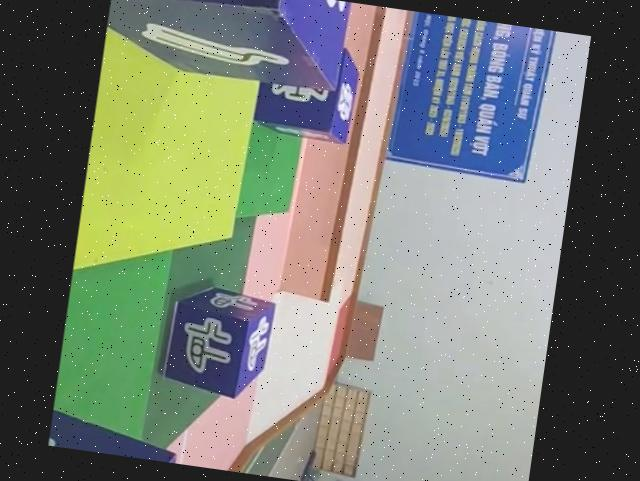R2 Real Blue: (102, 0, 358, 93), (160, 281, 277, 401), (48, 406, 182, 464)
